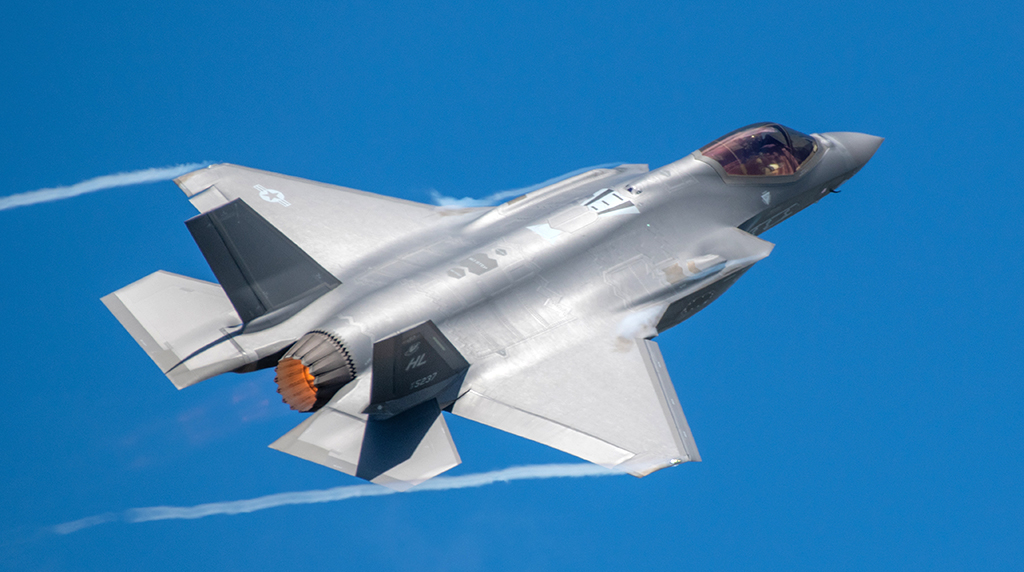F35: (91, 118, 889, 495)
